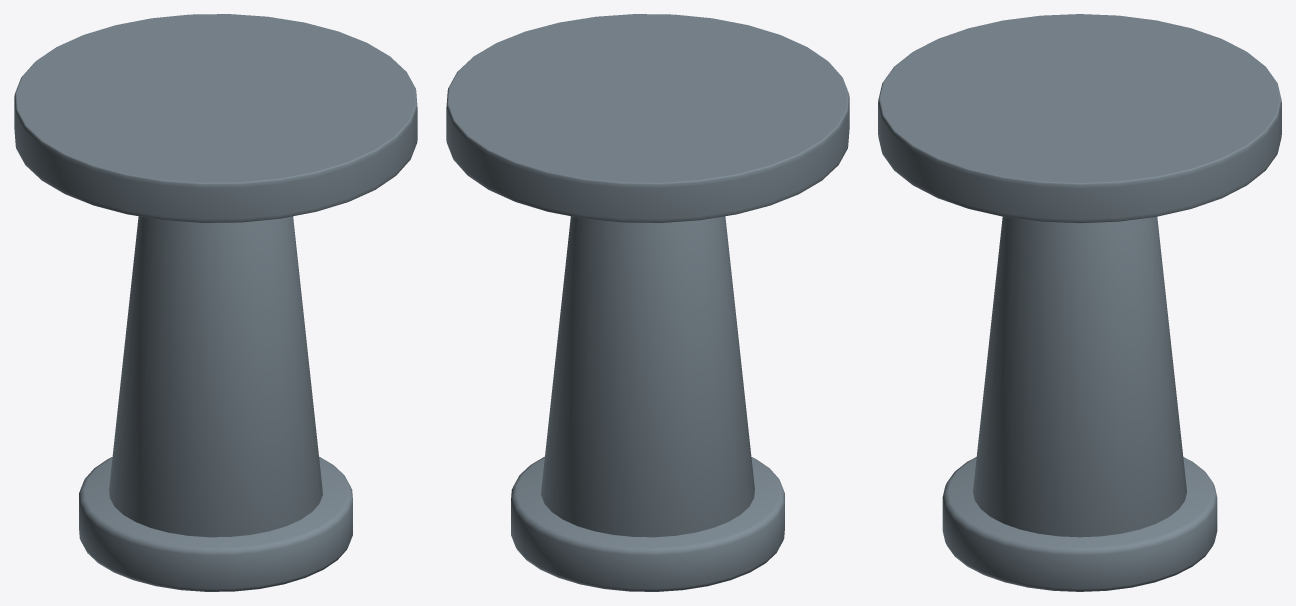
File: pedestal-nightstand.glb
3 renders of one model, left to right at view 1: azimuth 30°, elevation 25°; view 2: azimuth 150°, elevation 25°; view 3: azimuth 270°, elevation 25°, orthographic.
Visible parts, largest first — view 1: catalog_surface_RealismUV; view 2: catalog_surface_RealismUV; view 3: catalog_surface_RealismUV.
Boxes of the visible parts, x1=… form: catalog_surface_RealismUV: x1=14, y1=14, x2=417, y2=591; catalog_surface_RealismUV: x1=446, y1=14, x2=849, y2=591; catalog_surface_RealismUV: x1=878, y1=14, x2=1281, y2=591.
Size of the model in its own units: 0.46 by 0.55 by 0.46.
